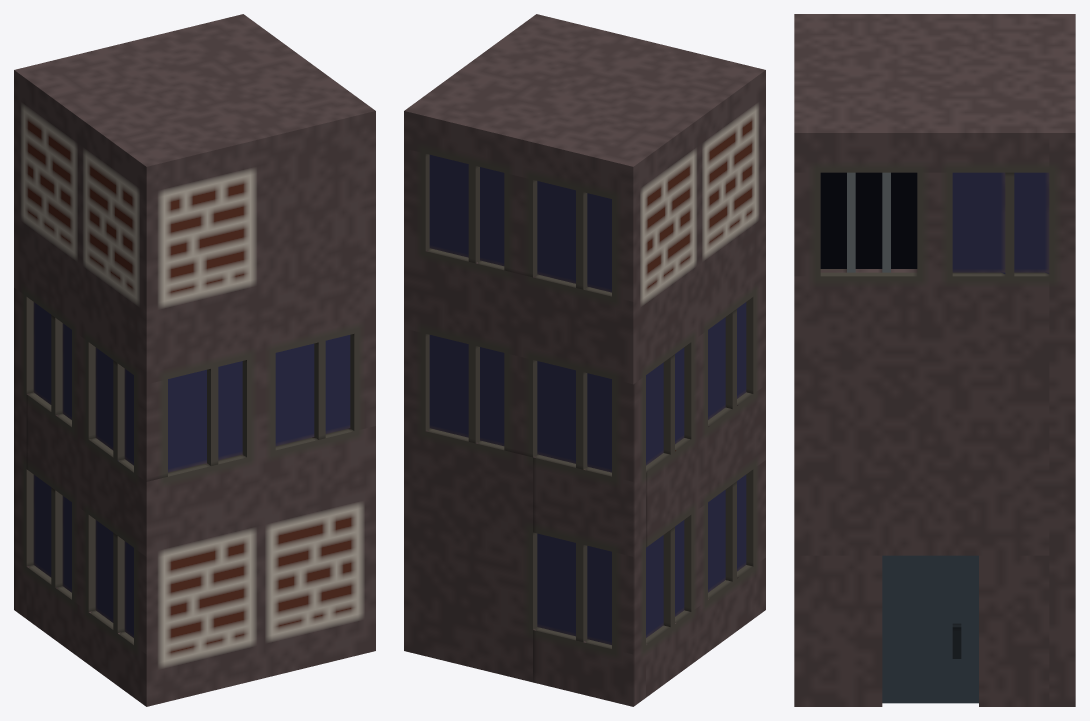
3 views of the same model, side by side, from view 1: azimuth 30°, elevation 25°; view 2: azimuth 150°, elevation 25°; view 3: azimuth 270°, elevation 25° (orthographic). The views are drawn at different scales.
Parts seen in each view (by area): view 1: Content; view 2: Content; view 3: Content.
Part boxes in pixels (left/top/right/bottom): Content: left=14, top=14, right=375, bottom=706; Content: left=404, top=14, right=765, bottom=706; Content: left=794, top=14, right=1075, bottom=706.
Size of the model in its own units: 32 by 72 by 32.
Materials: 1 (1 with a texture image).
